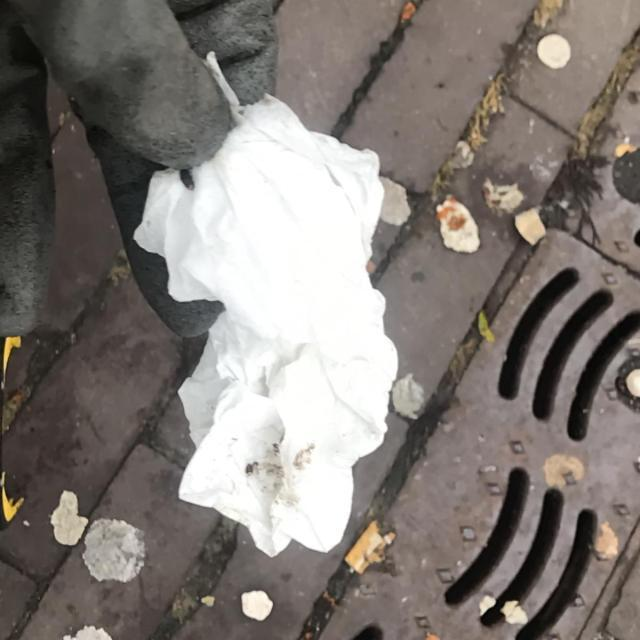Paper: (132, 48, 400, 560)
